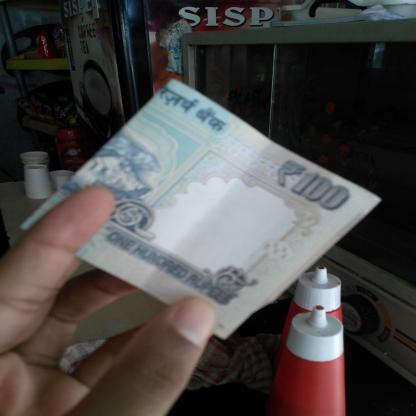Old100Back: (18, 78, 382, 340)
